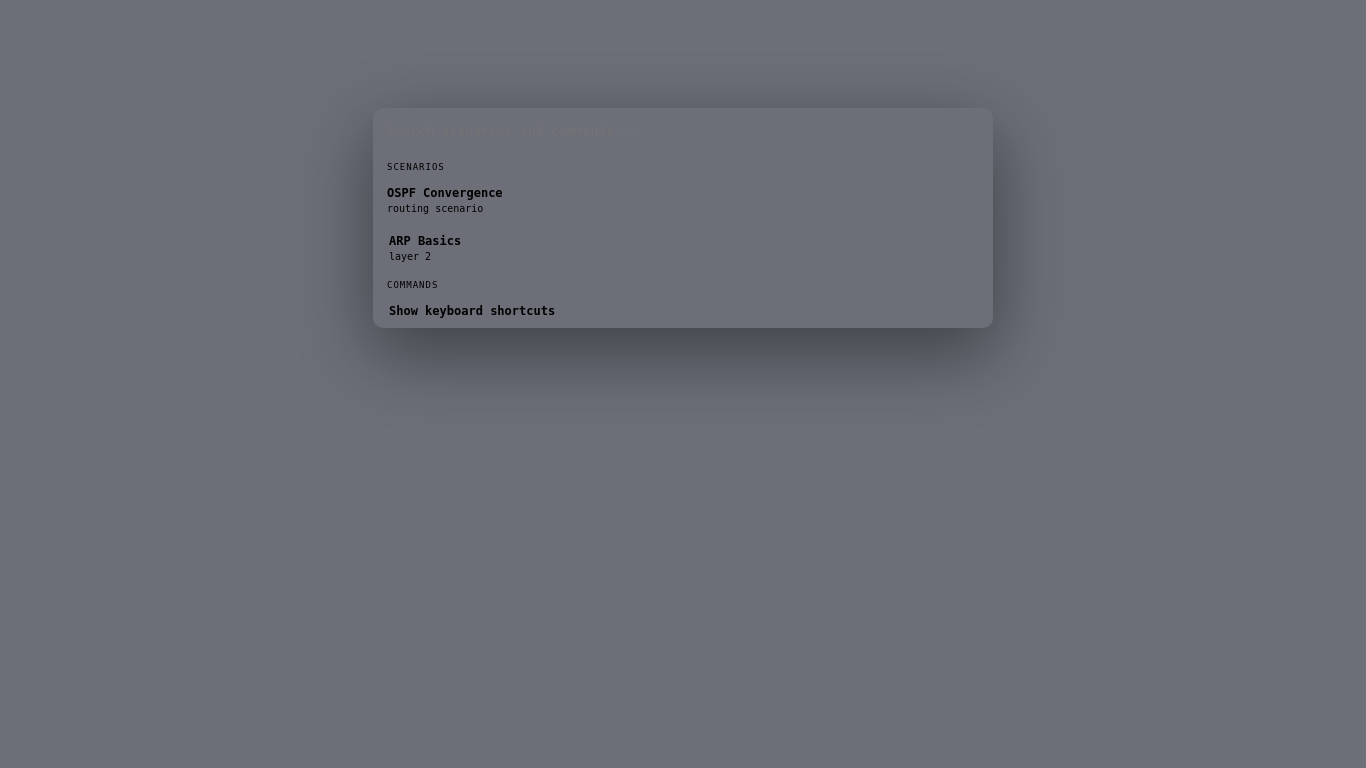
Scenario: CommandPalette › records executed commands and surfaces them under Recents on reopen
The image size is (1366, 768).
Type "keyboard" into the field named "Command palette search" at x=683, y=130, box [373,108,993,154]
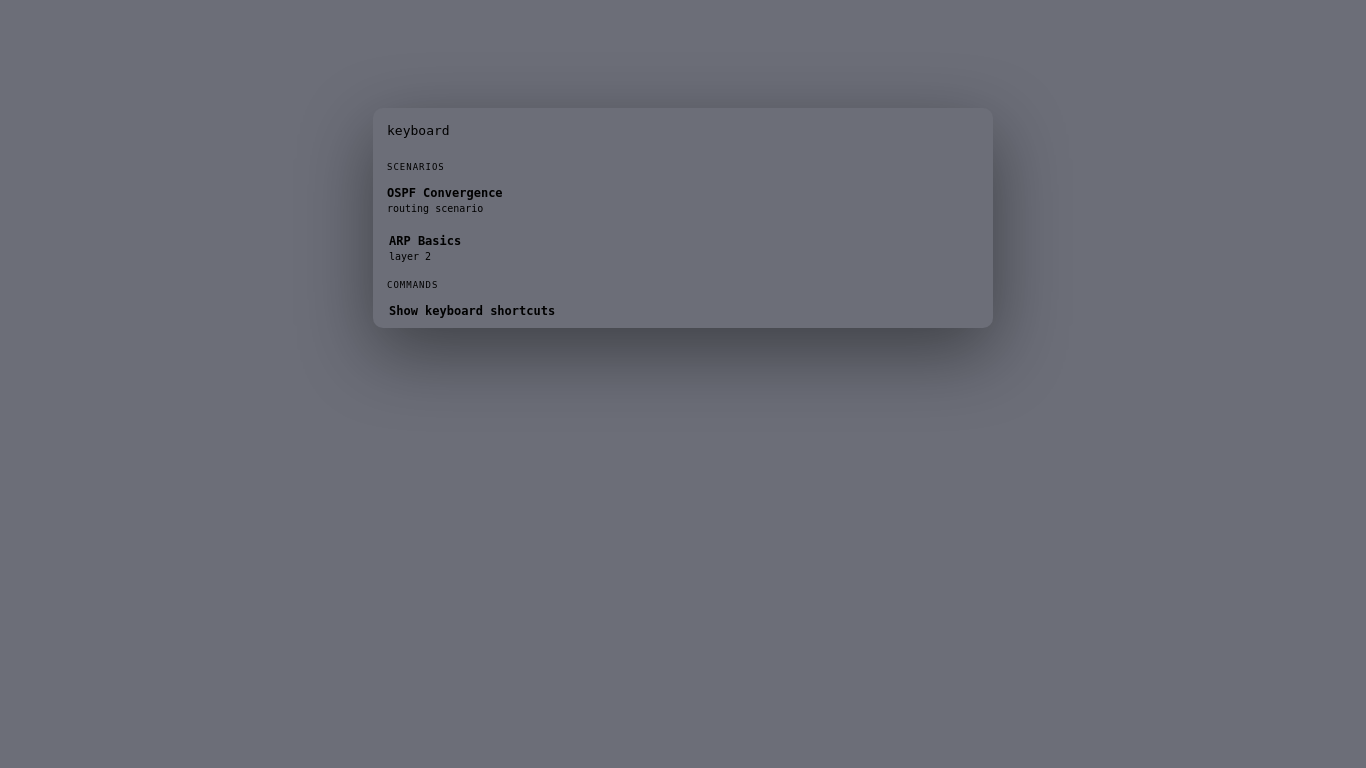
Press Enter in the field named "Command palette search", box [373,108,993,154]
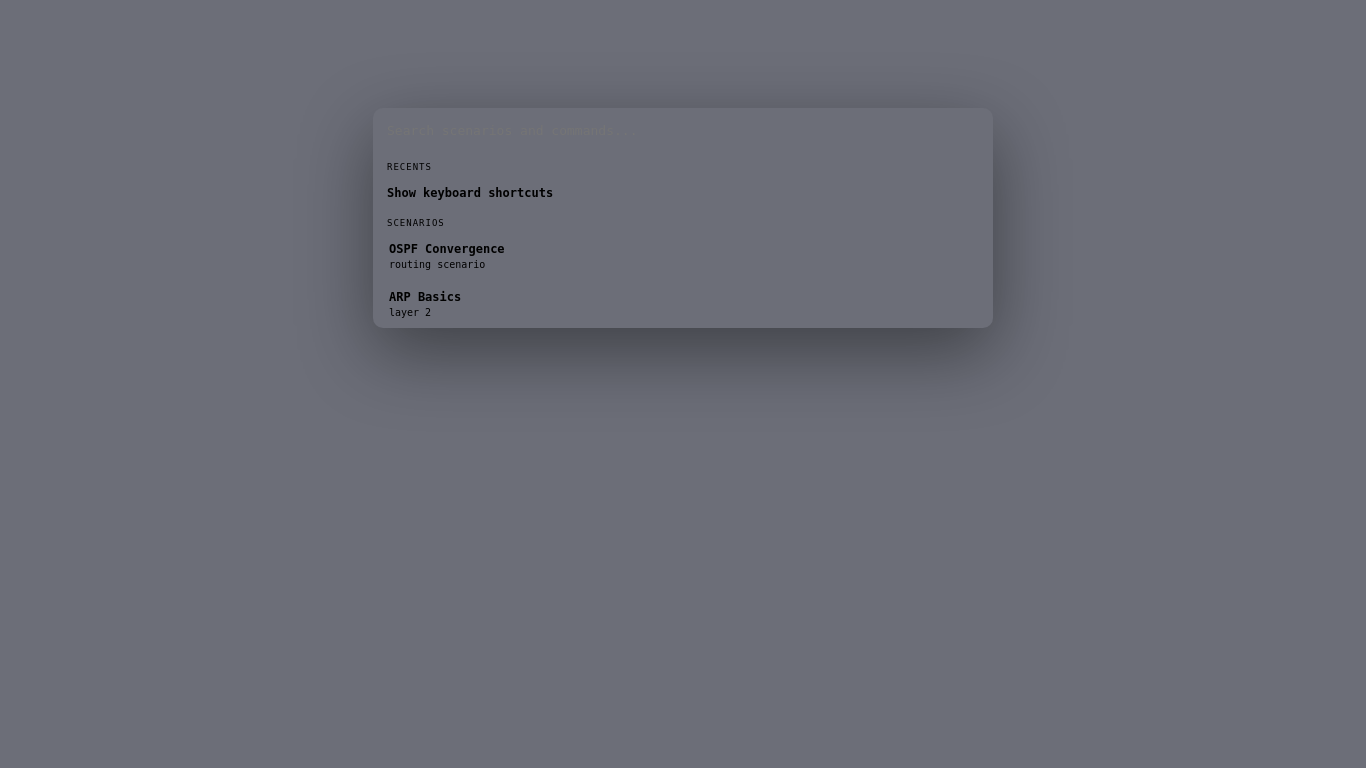
Expected: the text with test id "command-palette-group" reads "recents", [387,162,432,172]
Expected: the option with test id "command-palette-option" reads "Show keyboard shortcuts", [373,176,993,210]
